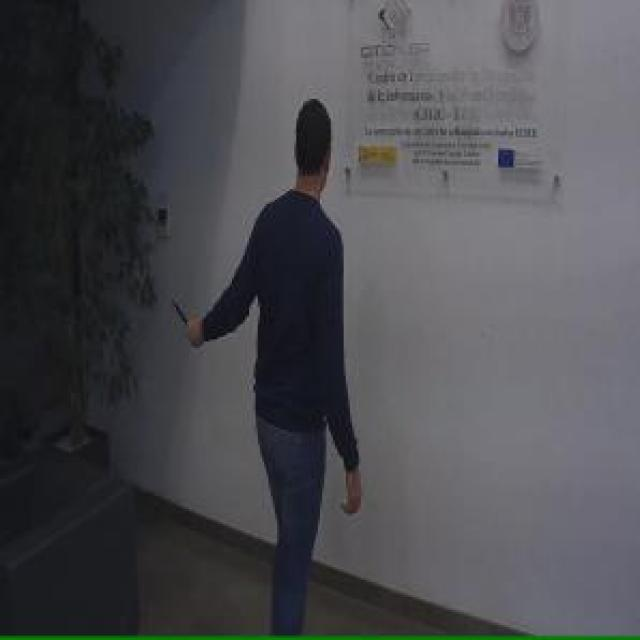knife: (170, 292, 198, 347)
